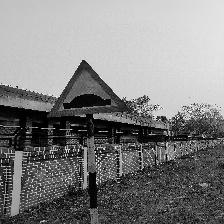Speed-breaker: (48, 59, 130, 117)
